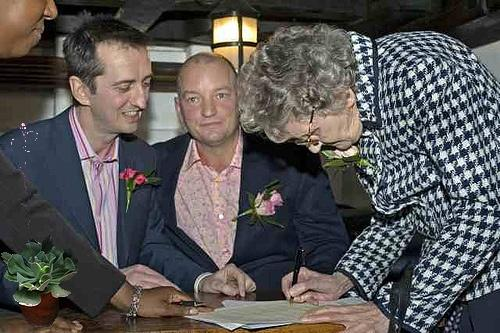tampered: (2, 124, 78, 327)
